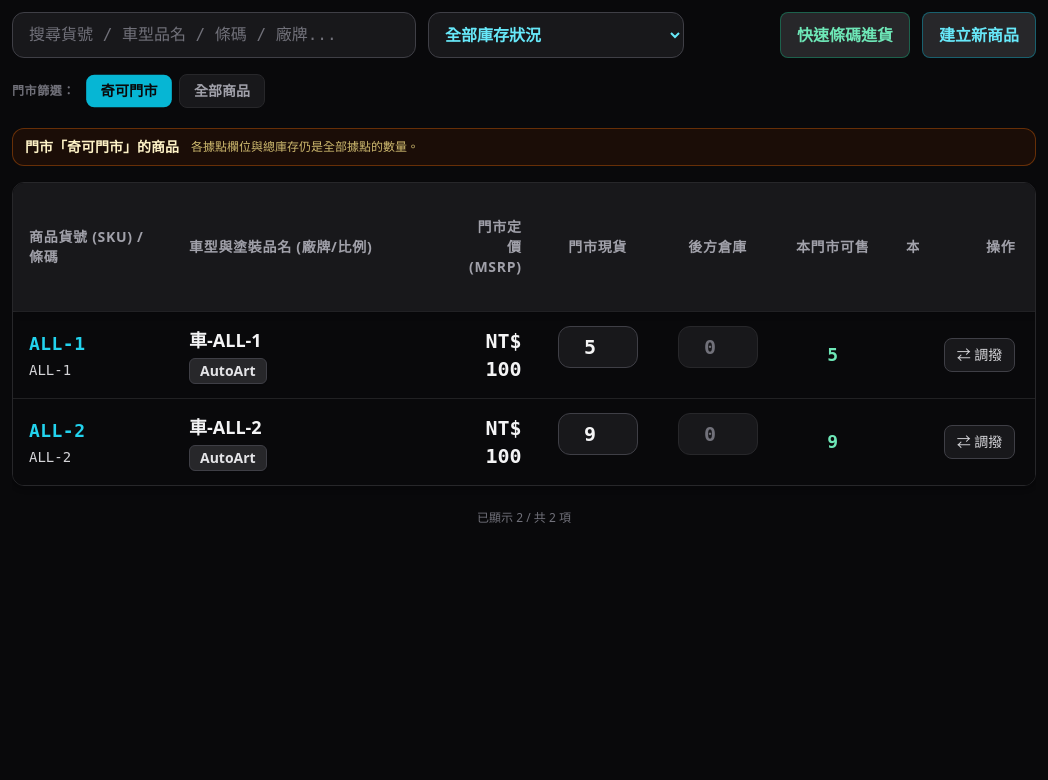
inventory page stock filters › keeps a product with an unsaved draft visible after switching to a filter it does not match
Expected: the text "車-ALL-1" is shown, [189, 328, 262, 352]
Clear the 1st number field: (598, 347) [558, 326, 638, 368]
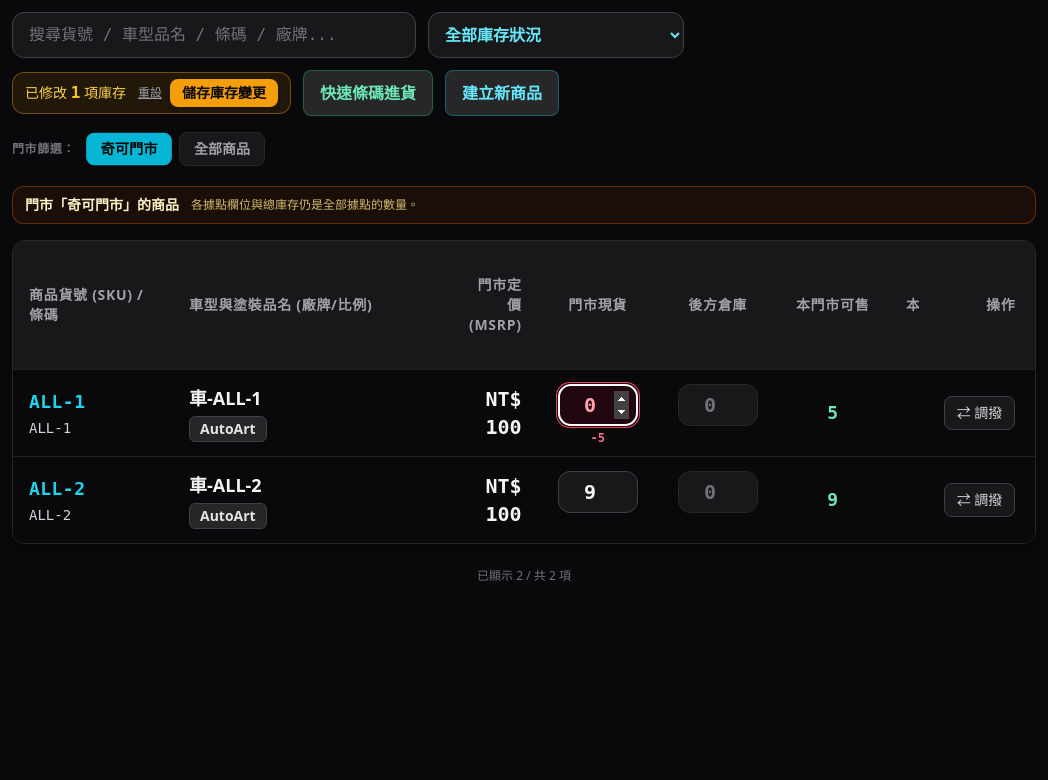
In the 1st number field: (598, 405) [558, 384, 638, 426], type "7"
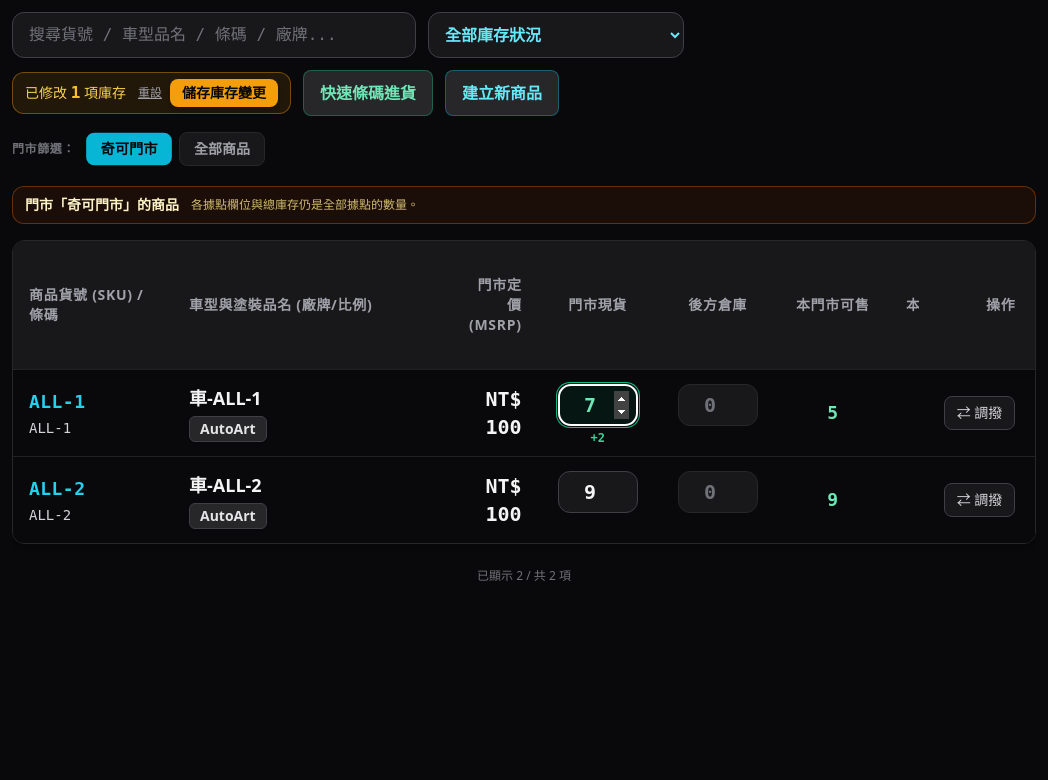
Now the text "已修改 1 項庫存" is shown, box [25, 81, 126, 105]
Select "⚠️ 門市現貨低庫存 (≤ 2 台)" in the dropdown: (556, 35) [428, 12, 684, 58]
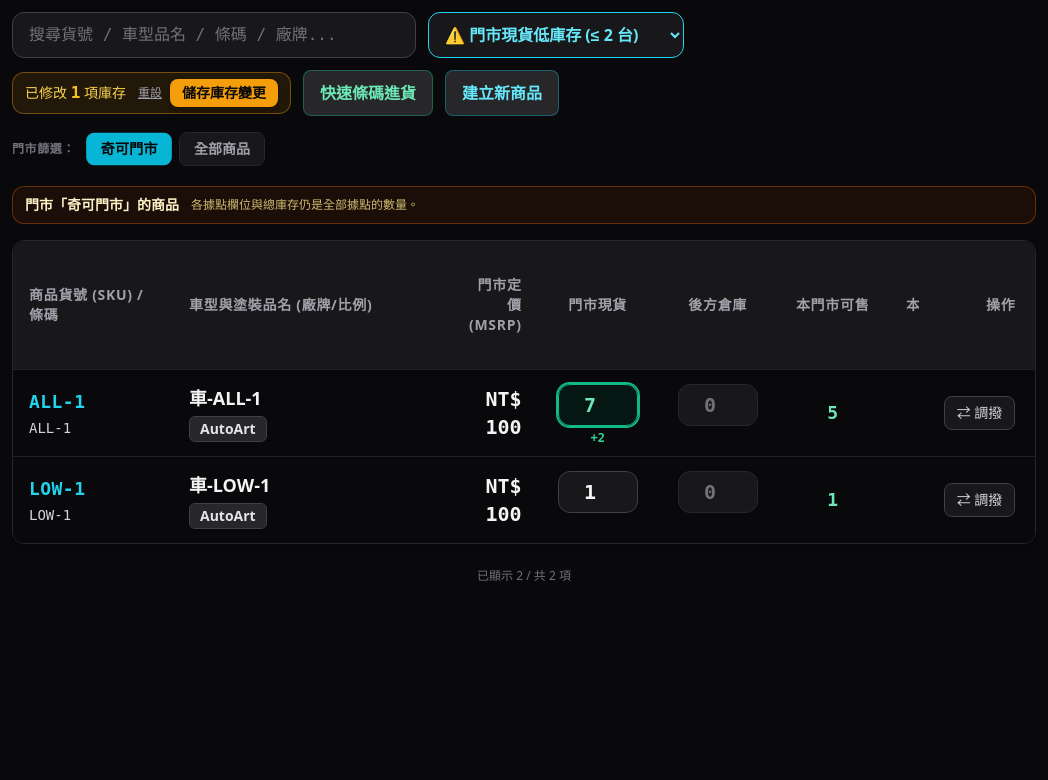
Now the text "已修改 1 項庫存" is shown, box [25, 81, 126, 105]
Now the text "車-LOW-1" is shown, box [189, 473, 270, 497]
Now the text "車-ALL-2" is gone
